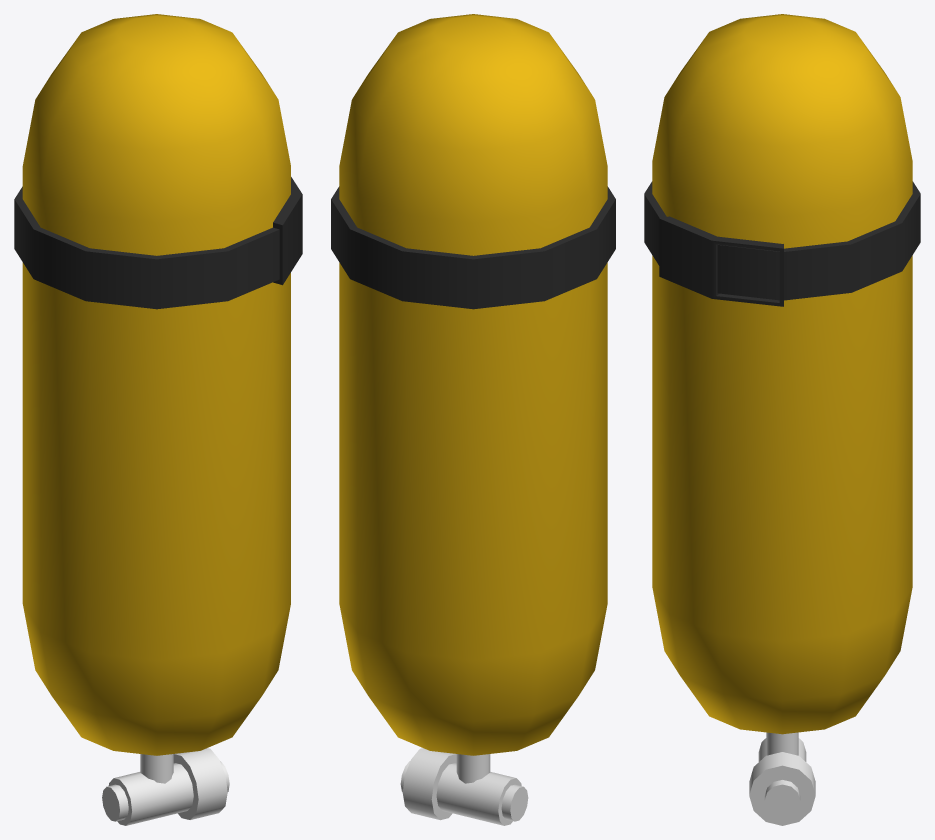
Rendered from Cilindro de Oxigenio.fbx.
The picture shows the model from 3 angles, left to right: view 1: azimuth 30°, elevation 25°; view 2: azimuth 150°, elevation 25°; view 3: azimuth 270°, elevation 25°; orthographic projection. The views are drawn at different scales.
Parts seen in each view (by area): view 1: Cilindro de Oxigenio; view 2: Cilindro de Oxigenio; view 3: Cilindro de Oxigenio.
Boxes of the visible parts, <box> form: Cilindro de Oxigenio: <box>14,14,302,825</box>; Cilindro de Oxigenio: <box>331,14,615,825</box>; Cilindro de Oxigenio: <box>644,14,920,825</box>.
Size of the model in its own units: 20.3 by 61.48 by 20.07.
